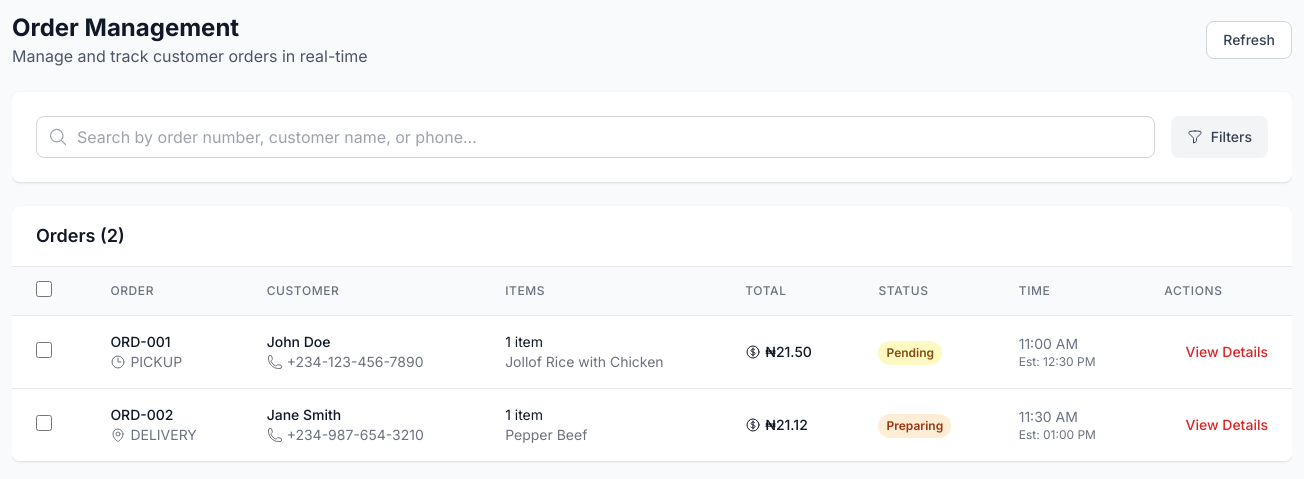
Test: OrderManagementPage › selects all orders
The width and height of the screenshot is (1304, 479).
Click the checkbox in the row of "Items": (44, 289) [36,281,52,297]
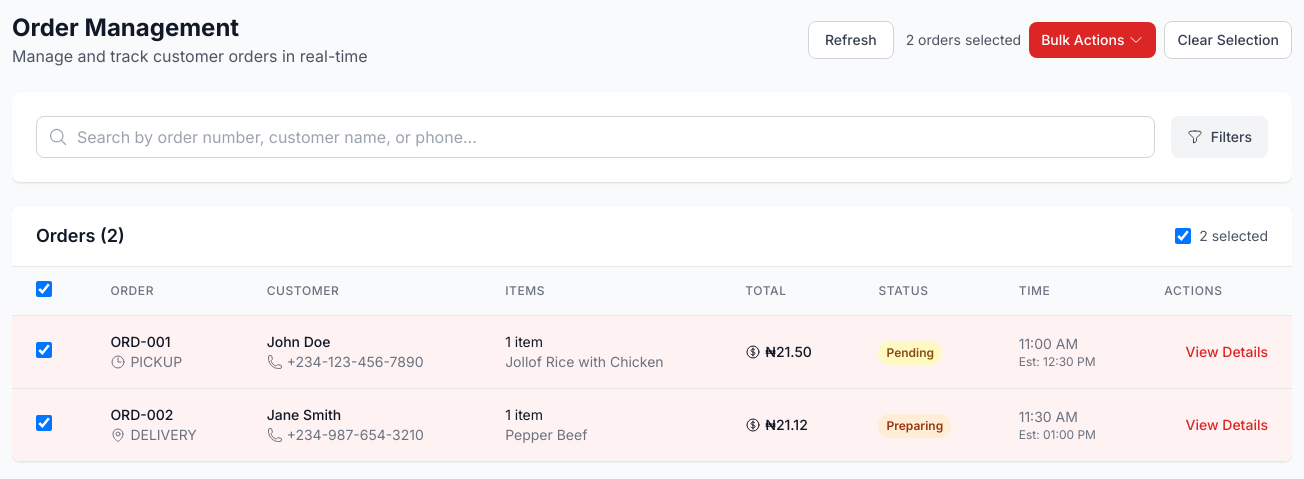
Expected: the text "2 selected" is shown, [1199,226,1268,246]
